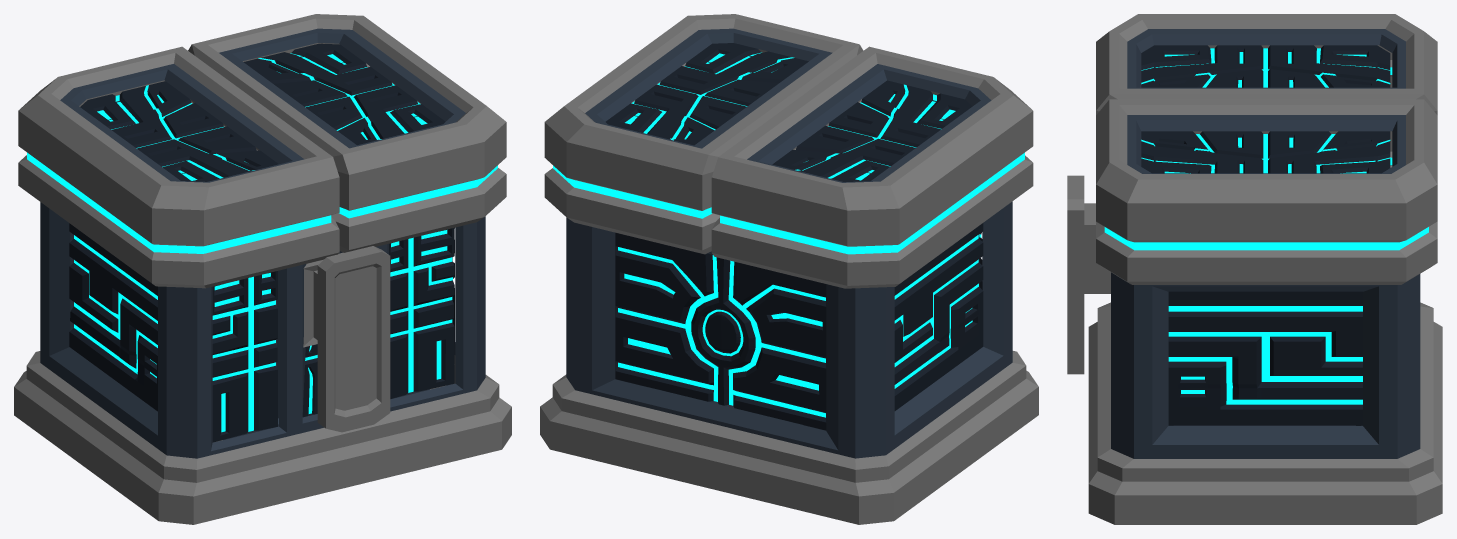
Rendered from DungeonChest1.fbx.
3 views of the same model, side by side, from view 1: azimuth 30°, elevation 25°; view 2: azimuth 150°, elevation 25°; view 3: azimuth 270°, elevation 25° (orthographic). The views are drawn at different scales.
Parts seen in each view (by area): view 1: Cube.005; view 2: Cube.005; view 3: Cube.005.
Part boxes in pixels (<box>): Cube.005: <box>14,14,511,524</box>; Cube.005: <box>540,14,1038,524</box>; Cube.005: <box>1067,14,1442,524</box>.
Bounding box in the file's own units: 308 × 269 × 271.
